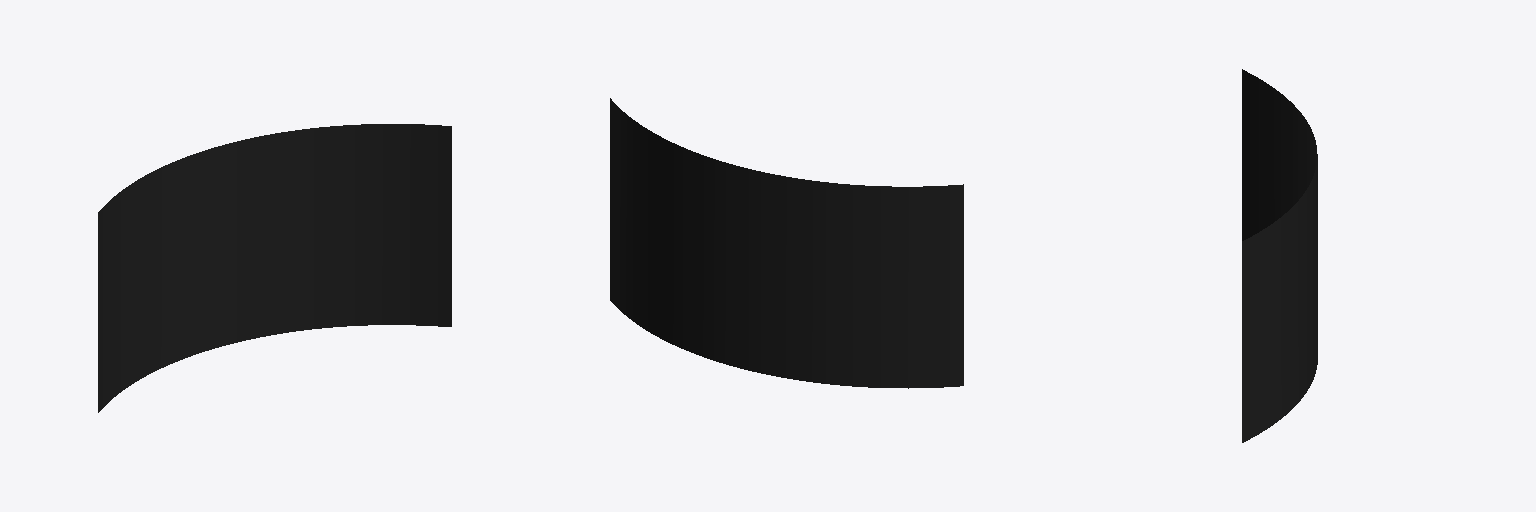
File: Panorama.obj
3 renders of one model, left to right at view 1: azimuth 30°, elevation 25°; view 2: azimuth 150°, elevation 25°; view 3: azimuth 270°, elevation 25°, orthographic.
Visible parts, largest first — view 1: SM_Background_8_SM_Background; view 2: SM_Background_8_SM_Background; view 3: SM_Background_8_SM_Background.
Boxes of the visible parts, x1,y1,x2,y2 form: SM_Background_8_SM_Background: [98, 124, 451, 412]; SM_Background_8_SM_Background: [610, 98, 963, 388]; SM_Background_8_SM_Background: [1242, 69, 1317, 442].
Bounding box in the file's own units: 2472 × 1348 × 463.